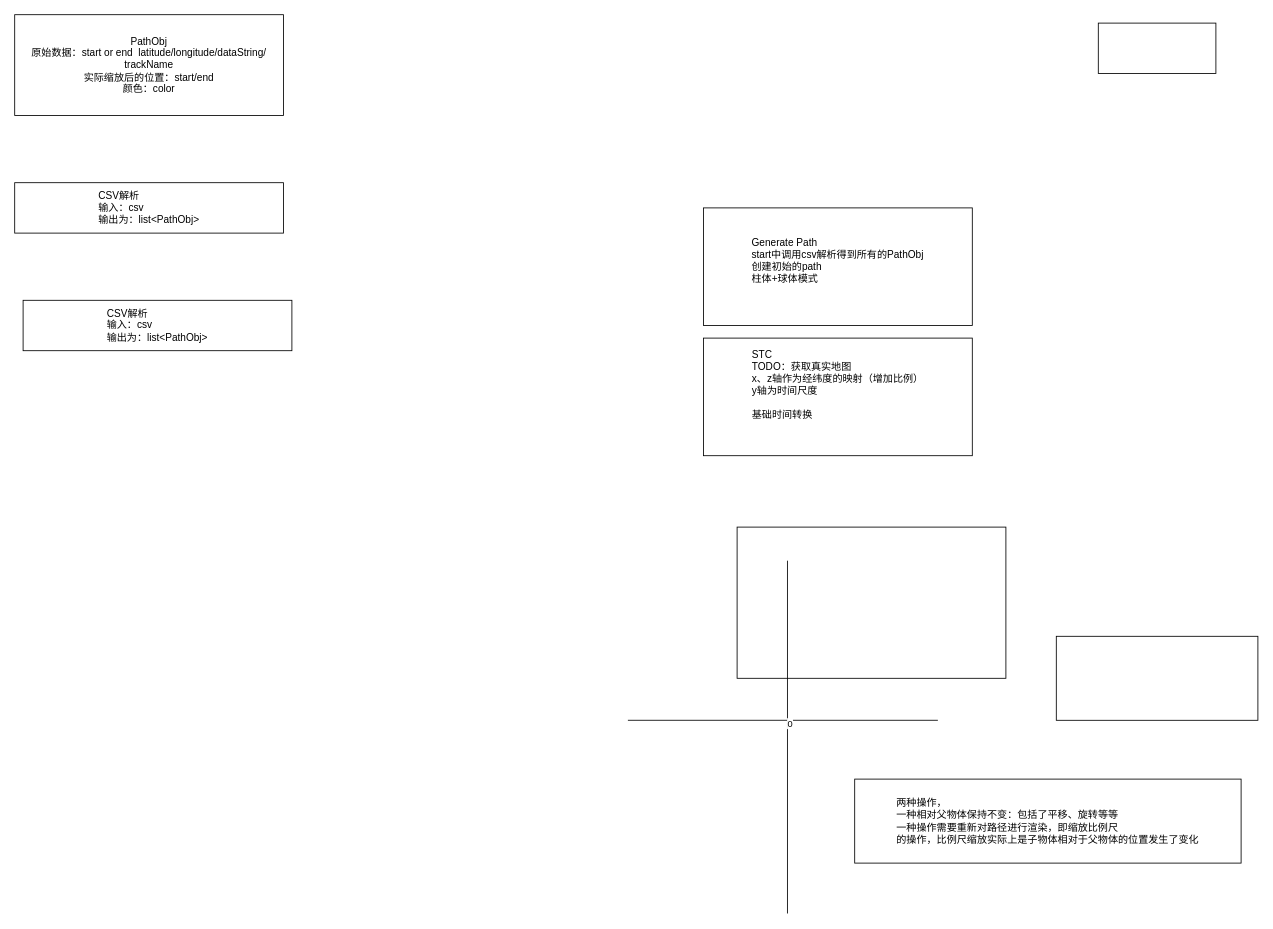
The diagram is 1273 pixels wide and 929 high, and some of its shapes have lost their labels. The shapes that lost their labels are listed below. From the top down, each one's centre as x and y in pixels, then its label:
the point at 1156,48: 回调更新Path
the point at 871,602: STC TODO：获取真实地图 - 提供两种更新方式 x、z轴作为经纬度的映射（增加比例） y轴为时间尺度 比例尺做的事情是：重新设置映射关系
the point at 1156,677: 映射函数 输入为经纬度+时间 输出为x、y、z
